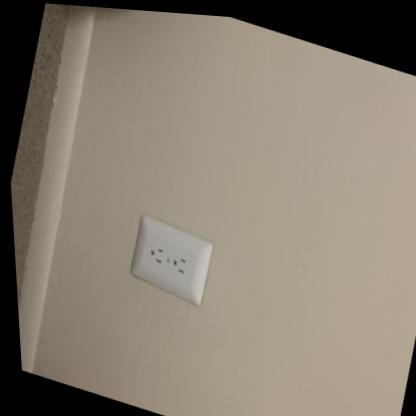OUTLET: (125, 212, 219, 308)
